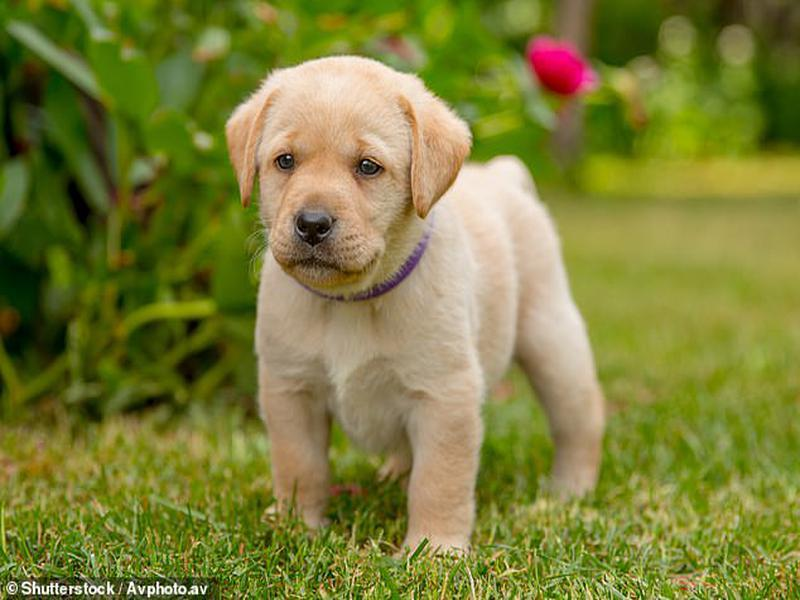dog: (219, 51, 622, 560)
